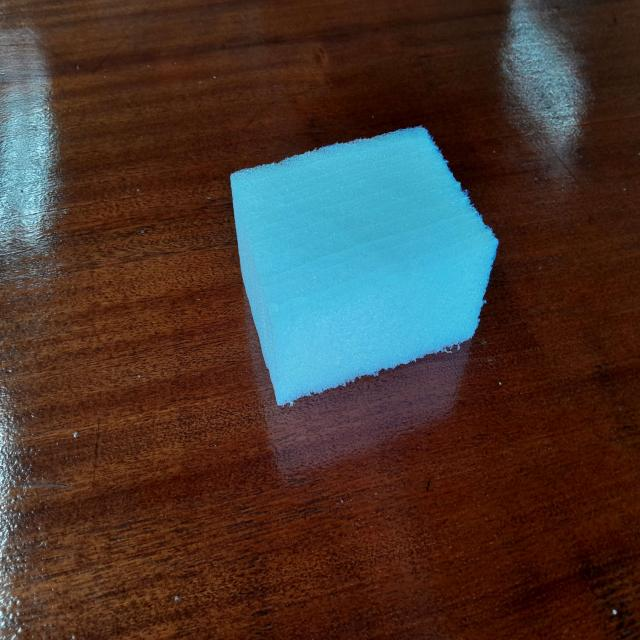trailer: (215, 124, 507, 411)
